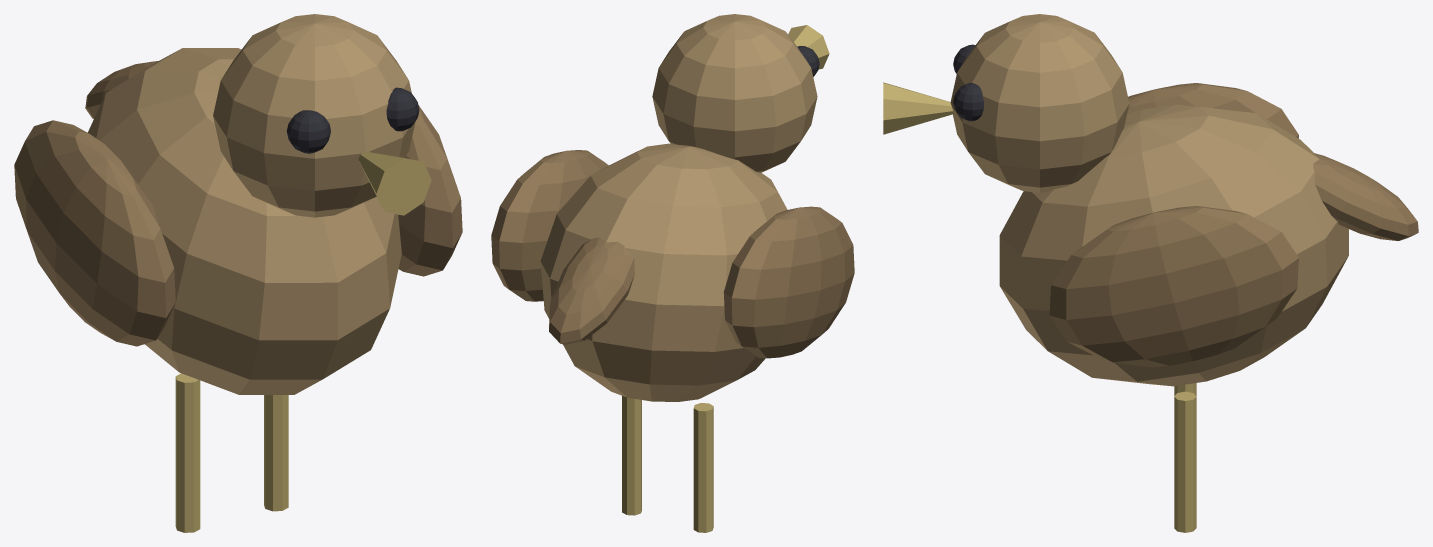
File: creature_bird_brown.glb
The picture shows the model from 3 angles, left to right: view 1: azimuth 30°, elevation 25°; view 2: azimuth 150°, elevation 25°; view 3: azimuth 270°, elevation 25°; orthographic projection. The views are drawn at different scales.
Visible parts, largest first — view 1: creature_bird_brown; view 2: creature_bird_brown; view 3: creature_bird_brown.
Part boxes in pixels (x1,y1,x2,y2): creature_bird_brown: (14, 14, 462, 532); creature_bird_brown: (491, 14, 854, 532); creature_bird_brown: (883, 14, 1418, 532).
Size of the model in its own units: 0.5546 by 0.8067 by 0.8041.
